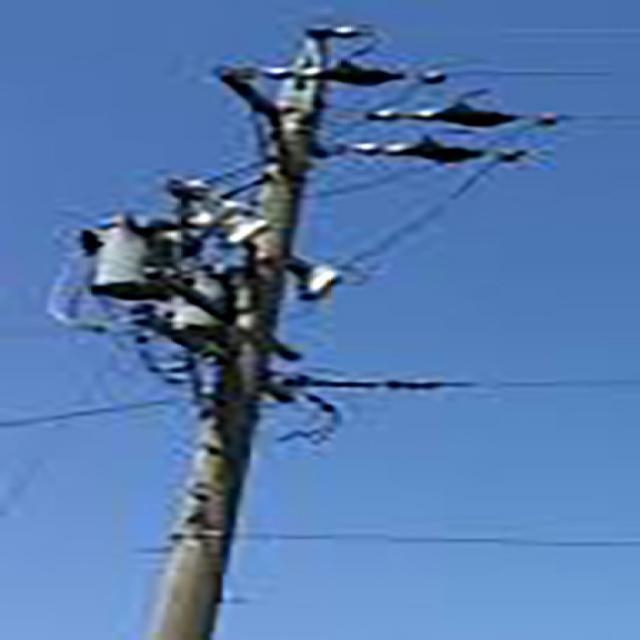pole: (39, 20, 574, 640)
